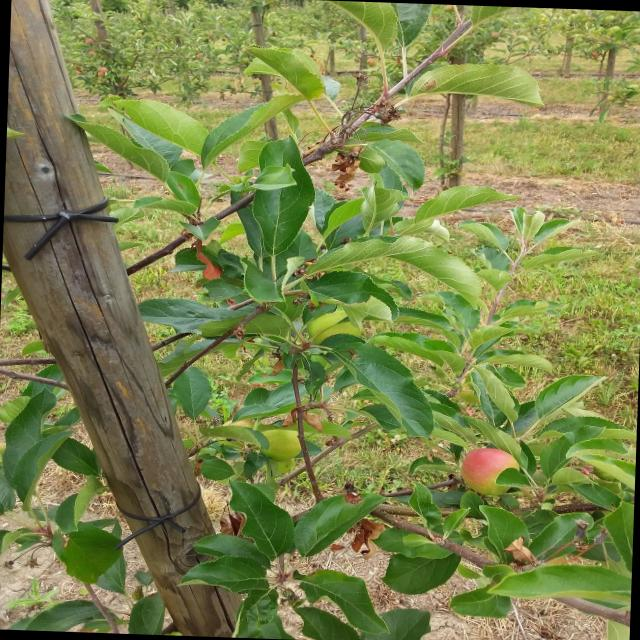-FireBlight-: (336, 127, 362, 212)
